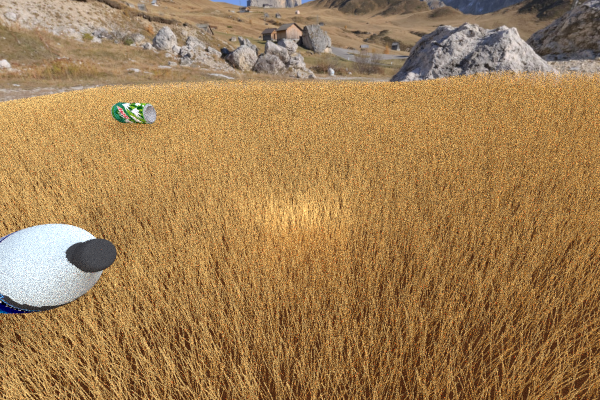bottle: (0, 223, 116, 314)
can: (110, 102, 156, 124)
